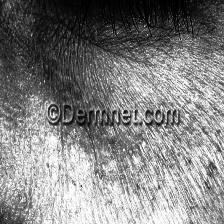Benign Marking or Mole: (3, 14, 87, 87), (96, 128, 162, 177)
